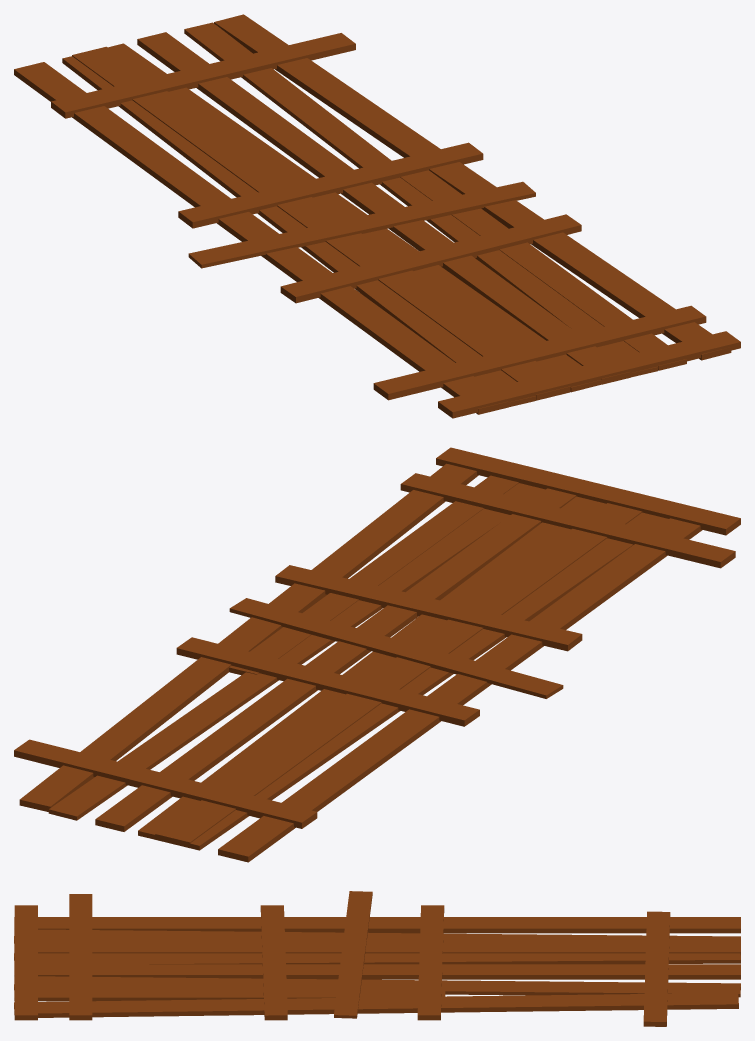
The model's file is Prop_Ruins_Wood_Plank_Platform_02.FBX.
The picture shows the model from 3 angles, top to bottom: view 1: azimuth 30°, elevation 25°; view 2: azimuth 150°, elevation 25°; view 3: azimuth 270°, elevation 25°; orthographic projection. The views are drawn at different scales.
Visible parts, largest first — view 1: Prop_Ruins_Wood_Plank_Platform_02; view 2: Prop_Ruins_Wood_Plank_Platform_02; view 3: Prop_Ruins_Wood_Plank_Platform_02.
Part boxes in pixels (left/top/right/bottom): Prop_Ruins_Wood_Plank_Platform_02: left=14, top=14, right=740, bottom=418; Prop_Ruins_Wood_Plank_Platform_02: left=14, top=447, right=740, bottom=862; Prop_Ruins_Wood_Plank_Platform_02: left=14, top=891, right=740, bottom=1026.
Size of the model in its own units: 3469 by 82.35 by 8143.
